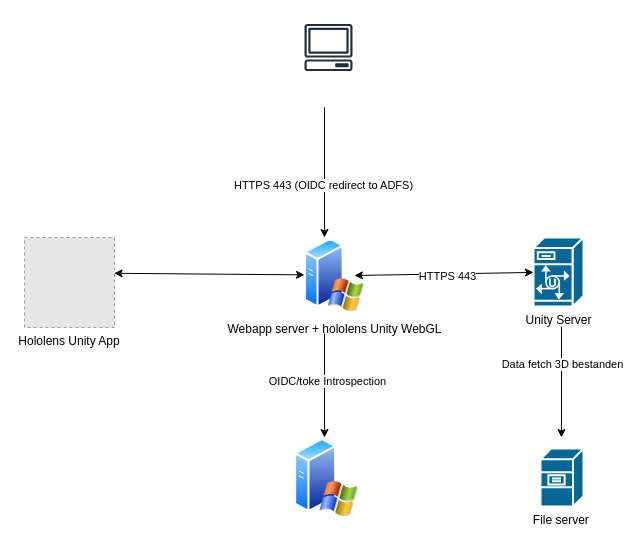
The diagram is 640 pixels wide and 559 high, and some of its shapes have lost their labels. Grey dashed boxes stand in for pictures. The shapes that lost their labels are listed below. From the top down, each one's centre as x and y in pixels, then its label:
At (x=328, y=47): "Client".
At (x=326, y=477): "ADFS server".
